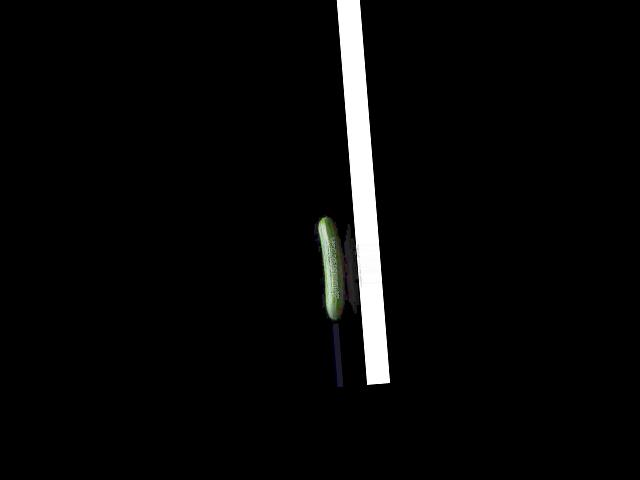cucumber: (318, 215, 341, 319)
